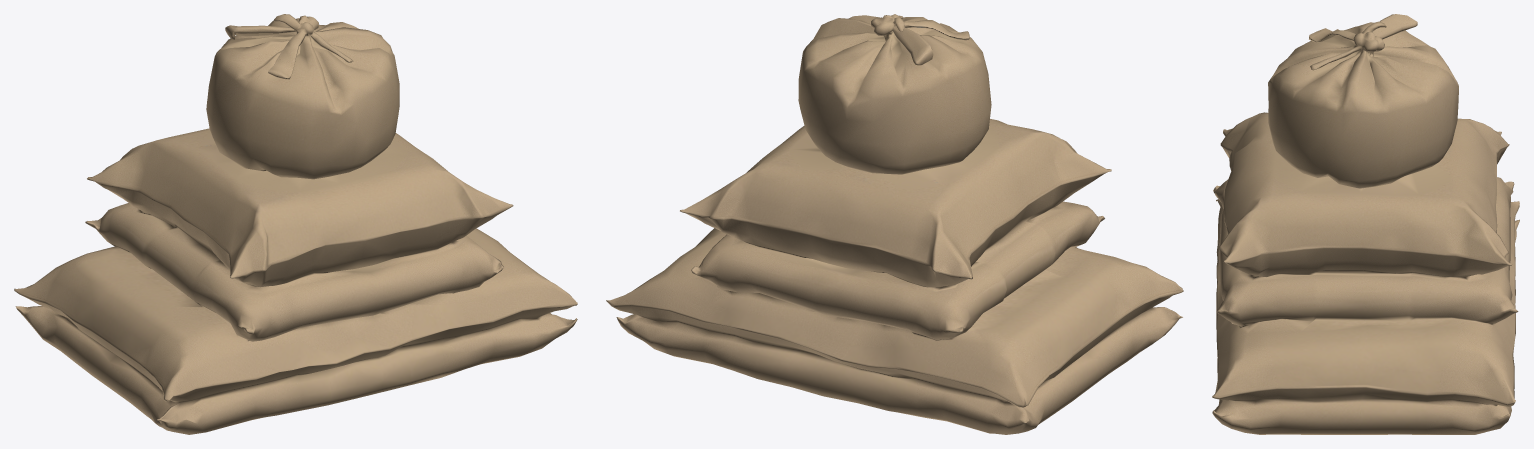
Rendered from feed_sacks.glb.
3 renders of one model, left to right at view 1: azimuth 30°, elevation 25°; view 2: azimuth 150°, elevation 25°; view 3: azimuth 270°, elevation 25°, orthographic. The views are drawn at different scales.
Parts seen in each view (by area): view 1: feed_sacks; view 2: feed_sacks; view 3: feed_sacks.
Part boxes in pixels (x1,y1,x2,y2): feed_sacks: (14,14,577,434); feed_sacks: (606,14,1183,434); feed_sacks: (1212,14,1519,434).
Bounding box in the file's own units: 1.15 × 0.85 × 0.7346.
Materials: 1 (1 with a texture image).
